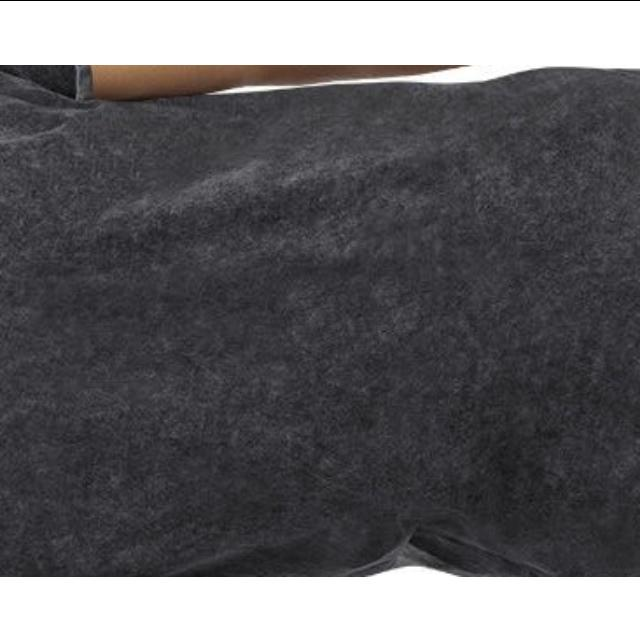denim: (0, 94, 640, 576)
